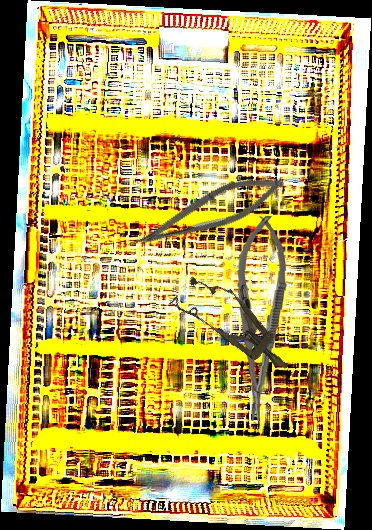Micro Scissor: (129, 159, 291, 267)
Needle Holder: (228, 214, 291, 423)
Speculum: (168, 264, 303, 388)
